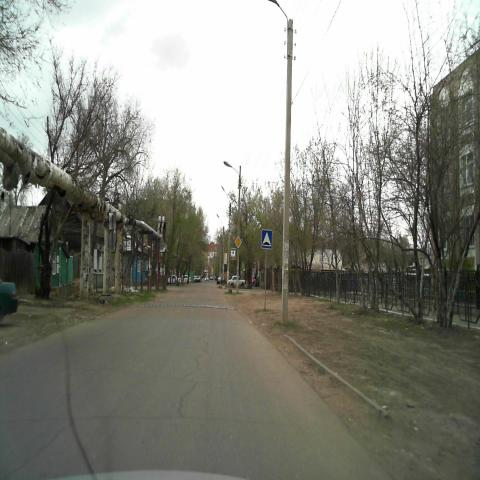2_1: (234, 235, 242, 249)
5_20: (261, 228, 272, 249)
